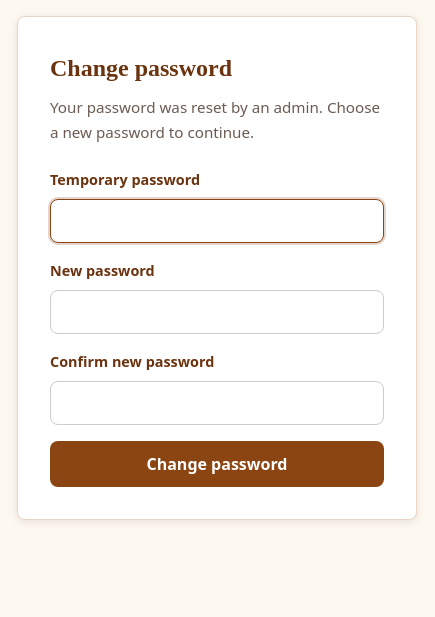
ChangePasswordPage › explains an expired temporary password instead of redirecting
Type "Temp1234abcd" into the password field labelled "Temporary password" at (217, 221), box [50,199,384,243]
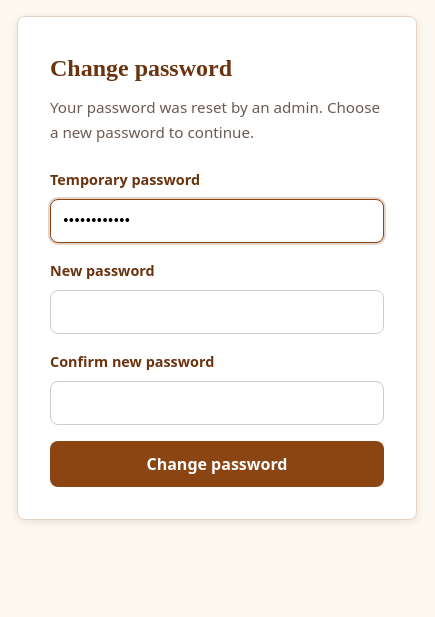
Type "brand-new-pass" into the password field labelled "New password" at (217, 312), box [50,290,384,334]
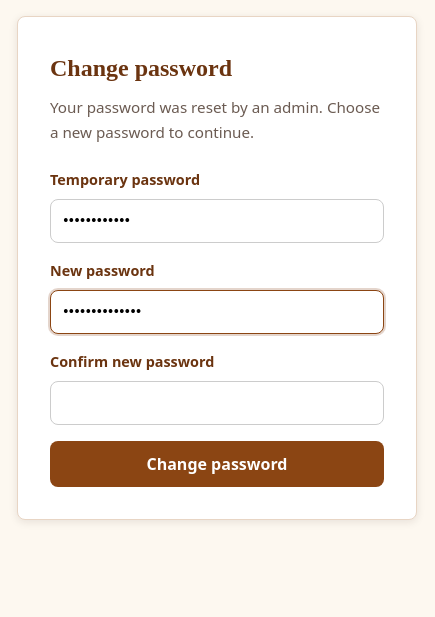
Type "brand-new-pass" into the password field labelled "Confirm new password" at (217, 403), box [50,381,384,425]
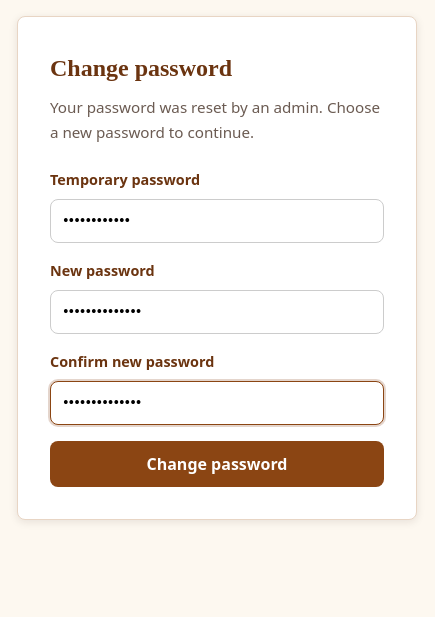
Click the button "Change password" at (217, 464), box [50,441,384,487]
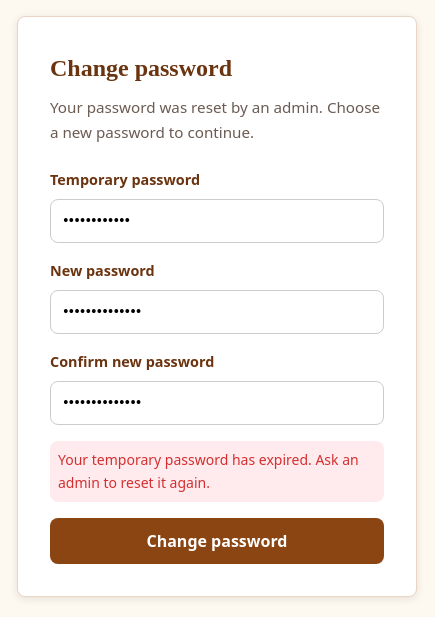
Result: the message shows "temporary password has expired" at [58,450,359,492]
